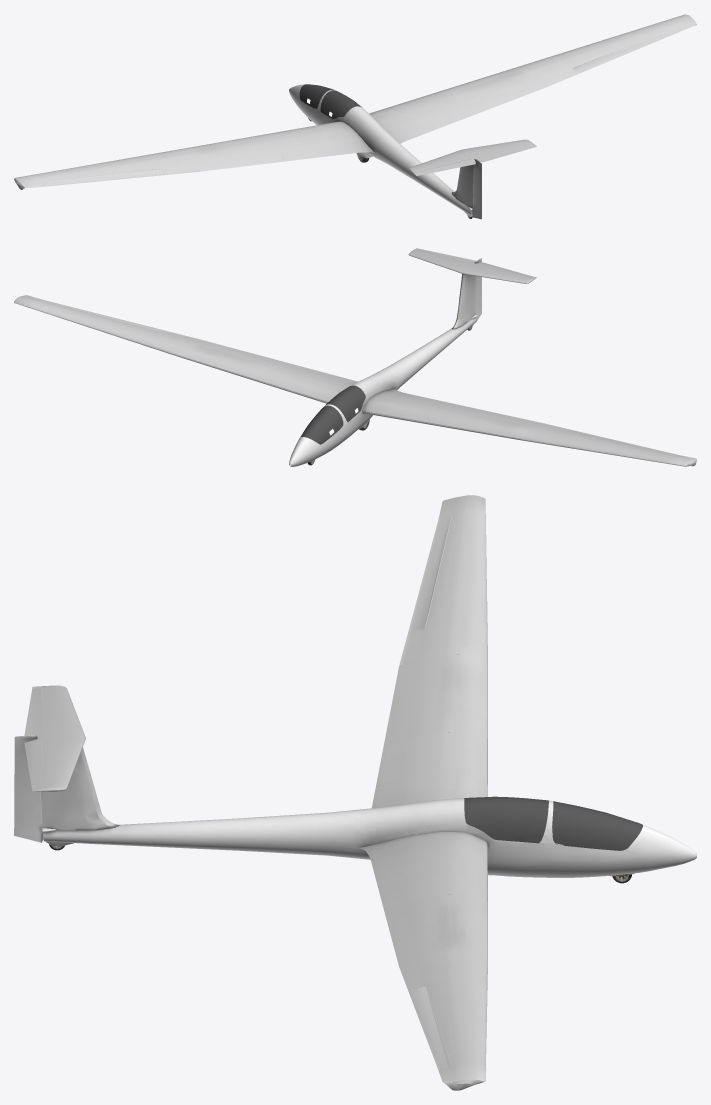
File: ask21.glb
The picture shows the model from 3 angles, top to bottom: view 1: azimuth 30°, elevation 25°; view 2: azimuth 150°, elevation 25°; view 3: azimuth 270°, elevation 25°; orthographic projection. The views are drawn at different scales.
Parts seen in each view (by area): view 1: rootNode; view 2: rootNode; view 3: rootNode.
Boxes of the visible parts, x1,y1,x2,y2 form: rootNode: [14, 14, 696, 219]; rootNode: [14, 248, 696, 466]; rootNode: [14, 495, 696, 1090].
Size of the model in its own units: 16.91 by 2.06 by 8.33.
Materials: 5 (3 with a texture image).
